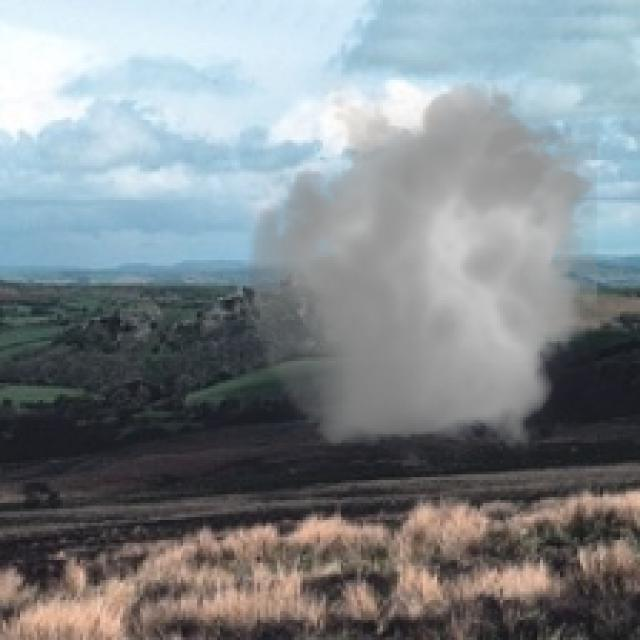Smoke: (235, 68, 614, 466)
